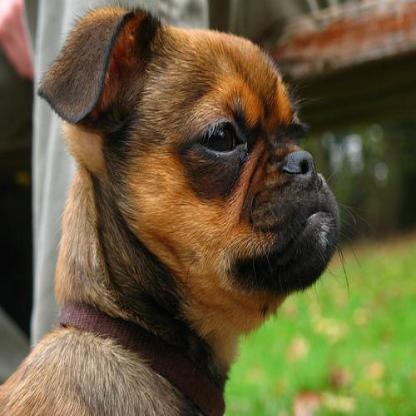Brabancon_griffon: (0, 6, 342, 414)
